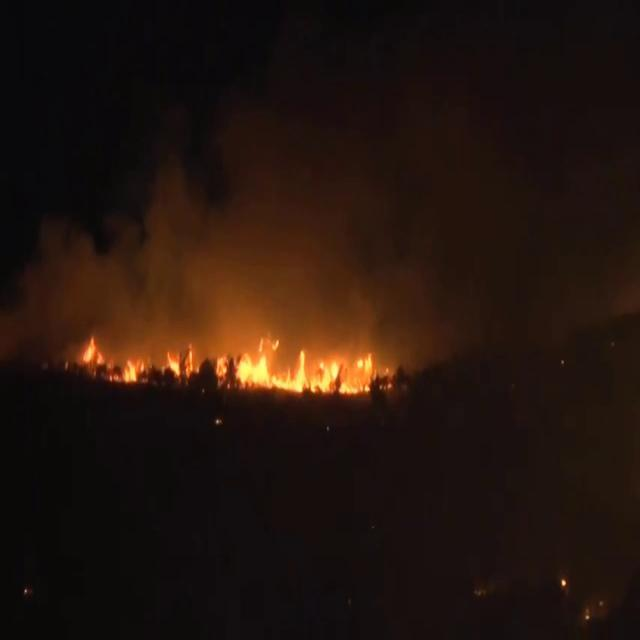Fire: (74, 300, 224, 420), (234, 346, 373, 396)
Smoke: (223, 168, 475, 334)
